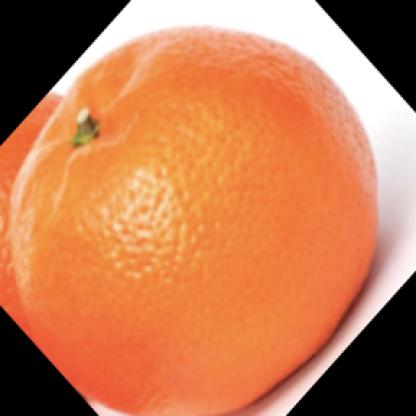fresh: (5, 27, 377, 416)
